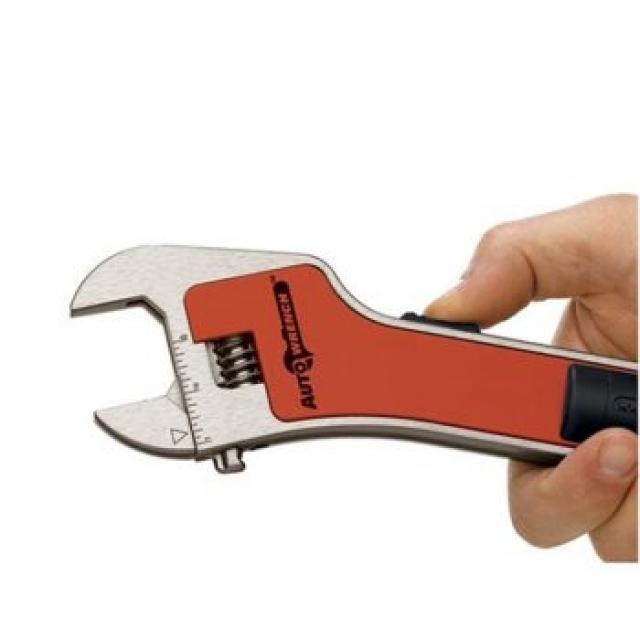wrench: (58, 238, 640, 486)
